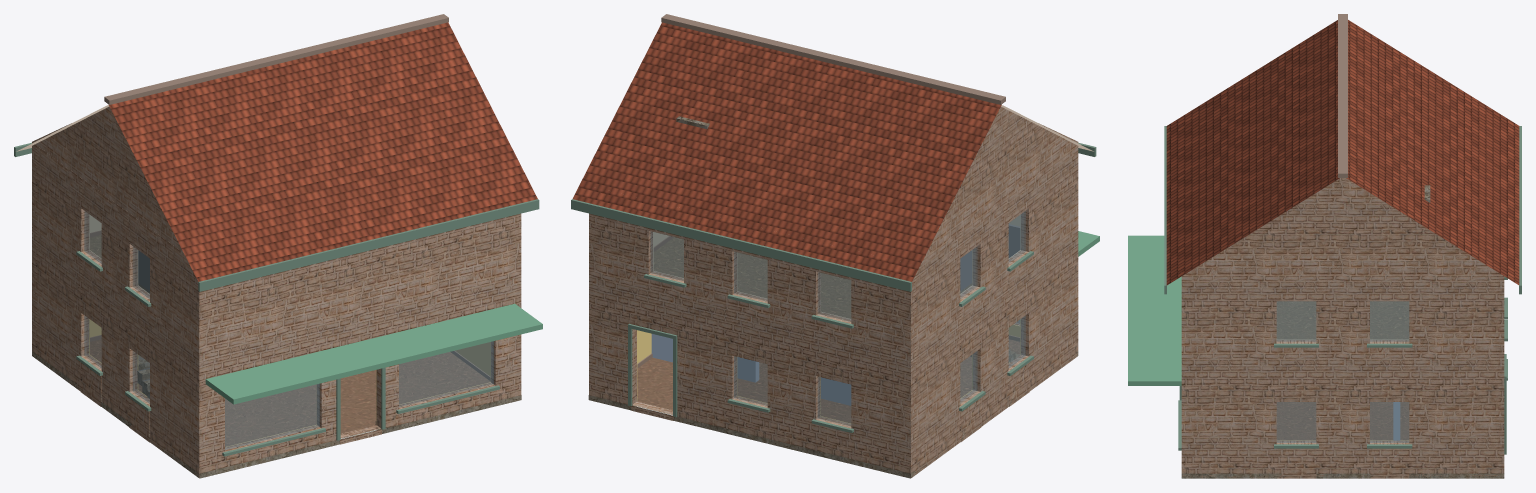
File: village-store.zfix-v5.lod0.glb
3 renders of one model, left to right at view 1: azimuth 30°, elevation 25°; view 2: azimuth 150°, elevation 25°; view 3: azimuth 270°, elevation 25°, orthographic. The views are drawn at different scales.
Visible parts, largest first — view 1: village-store; view 2: village-store; view 3: village-store.
Part boxes in pixels (<box>): village-store: <box>14,14,542,478</box>; village-store: <box>571,14,1099,478</box>; village-store: <box>1128,14,1521,478</box>.
Size of the model in its own units: 10.54 by 9.52 by 10.99.
6 materials, 4 textured.
